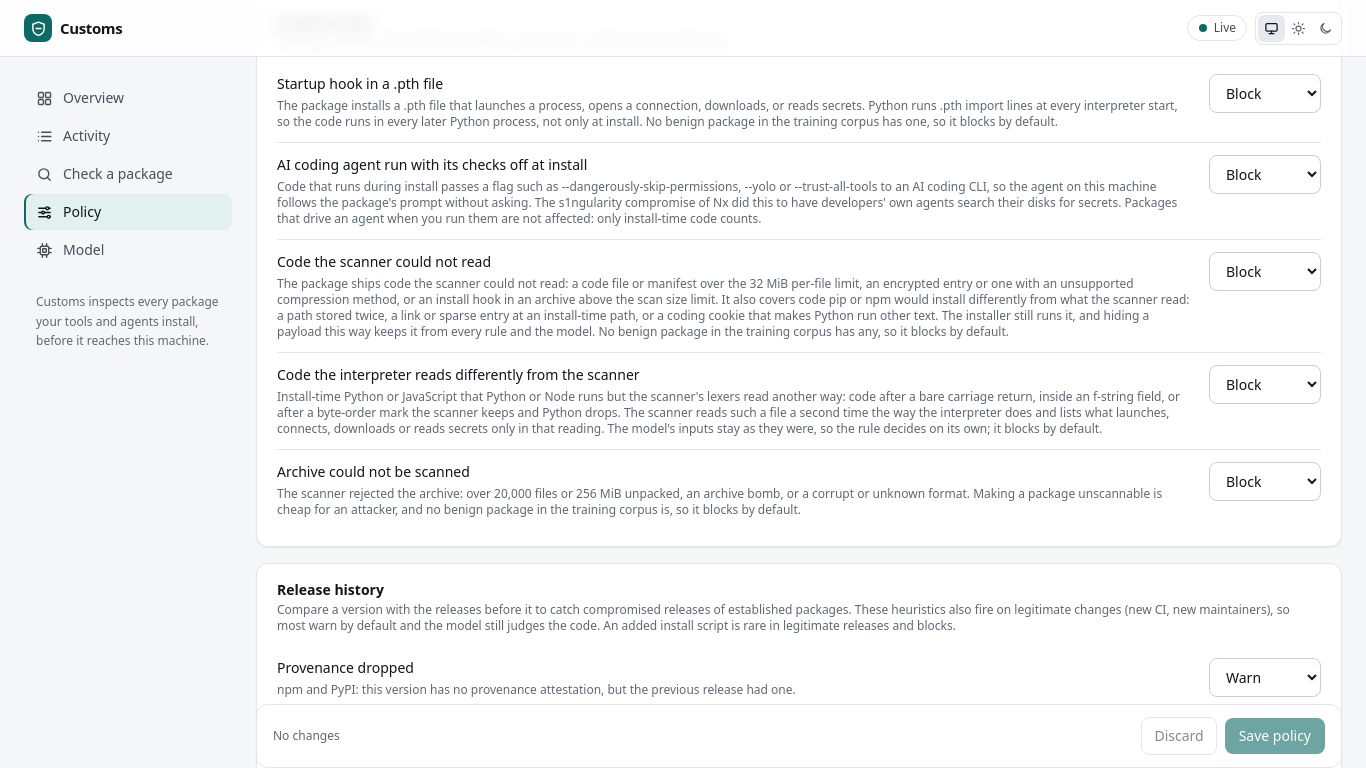
Test: Policy page › edits the scanner rules, including hidden_code
(page scrolled)
Expected: the dropdown labelled "Code the scanner could not read" shows "Block", left=1209, top=252, right=1321, bottom=291
Select "Warn" in the dropdown labelled "Code the interpreter reads differently from the scanner". click: (1265, 384)
box: left=1209, top=365, right=1321, bottom=404
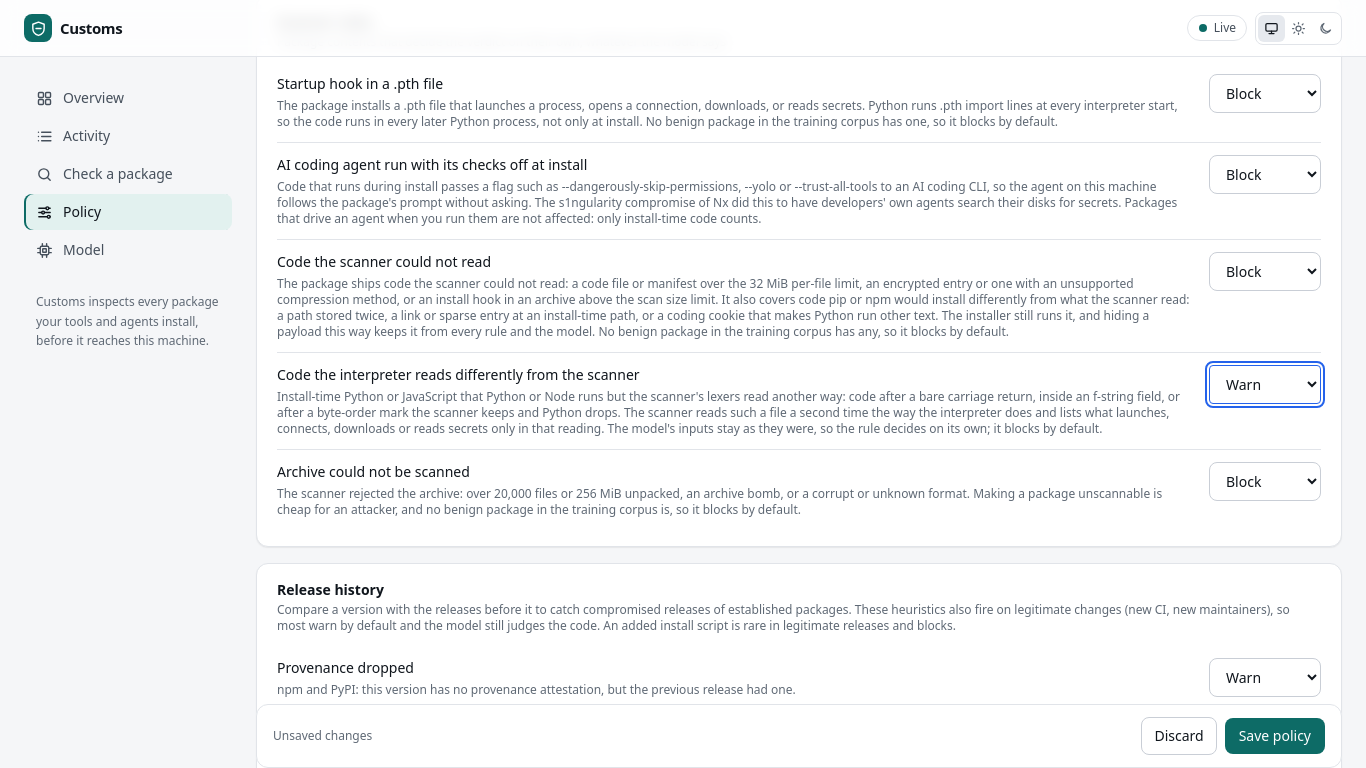
Click the button "Save policy". click: (1275, 736)
box: left=1225, top=718, right=1325, bottom=754
(page scrolled)
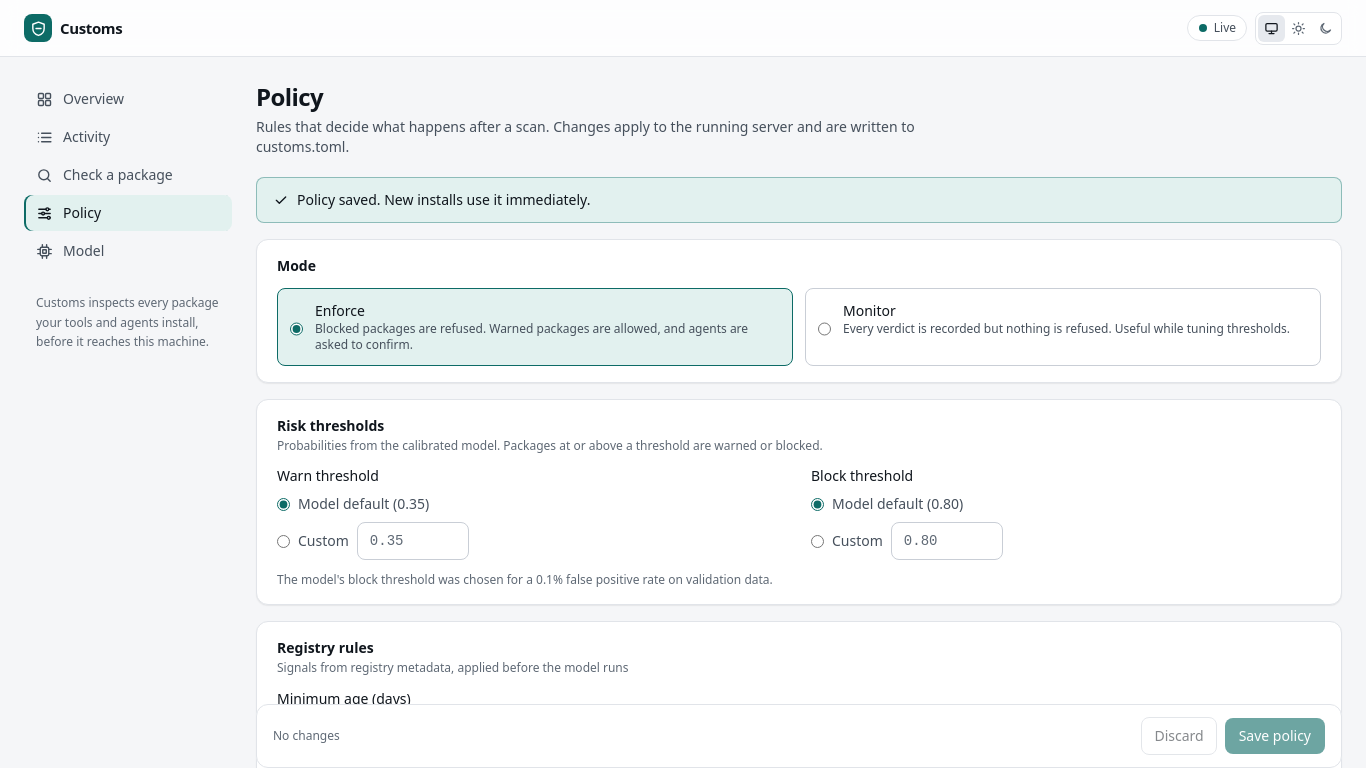
Expected: the message "Policy saved. New installs use it immediately." is shown, left=256, top=177, right=1342, bottom=223
